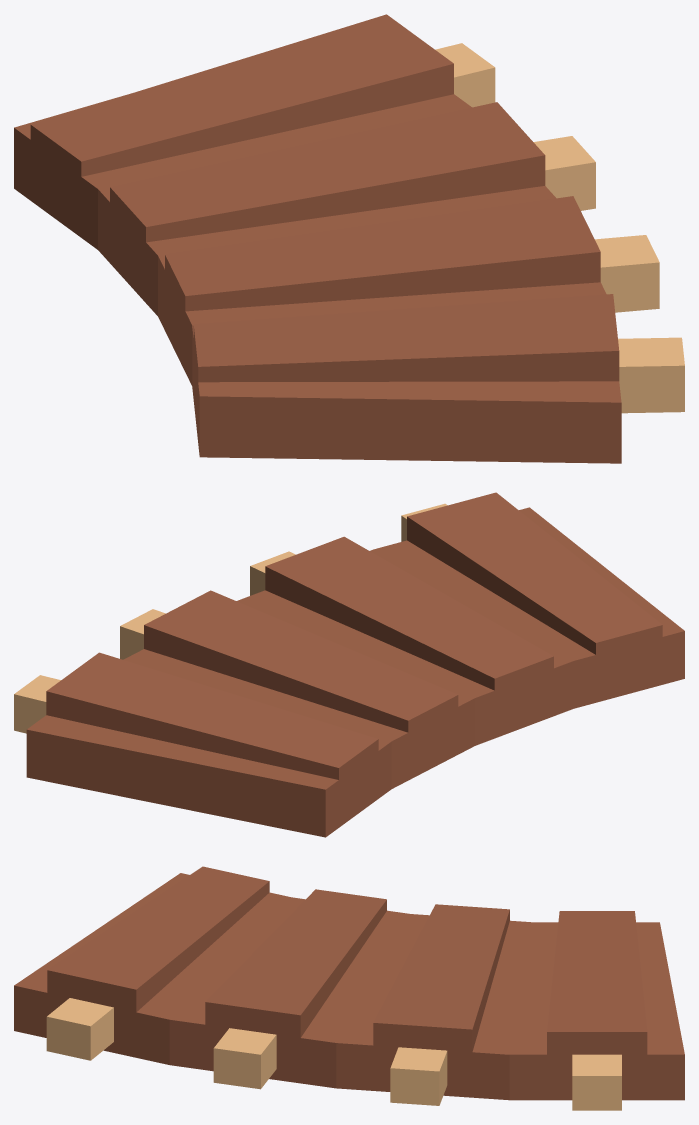
File: meatRibs.fbx
3 views of the same model, one above another, from view 1: azimuth 30°, elevation 25°; view 2: azimuth 150°, elevation 25°; view 3: azimuth 270°, elevation 25° (orthographic). The views are drawn at different scales.
Parts seen in each view (by area): view 1: meatRibs; view 2: meatRibs; view 3: meatRibs.
Part boxes in pixels (x1=…): meatRibs: x1=14, y1=14, x2=684, y2=463; meatRibs: x1=14, y1=492, x2=684, y2=837; meatRibs: x1=14, y1=866, x2=684, y2=1110.
Size of the model in its own units: 3.83 by 0.6 by 5.35.
